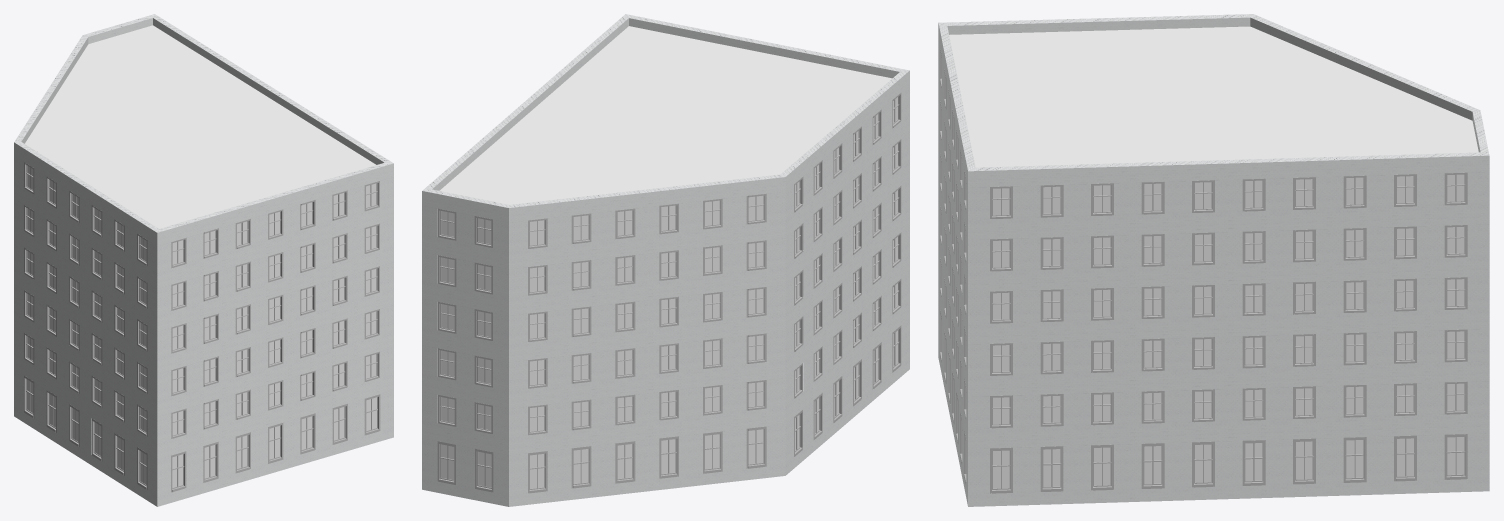
Rendered from clohbjqei02lx4p0208hi1o79_0.glb.
The picture shows the model from 3 angles, left to right: view 1: azimuth 30°, elevation 25°; view 2: azimuth 150°, elevation 25°; view 3: azimuth 270°, elevation 25°; orthographic projection. The views are drawn at different scales.
Parts seen in each view (by area): view 1: mesh_Brick, mesh_CityEnginePBRShader, mesh_Rim, mesh_Glass; view 2: mesh_Brick, mesh_CityEnginePBRShader, mesh_Rim, mesh_Glass; view 3: mesh_Brick, mesh_CityEnginePBRShader, mesh_Rim, mesh_Glass.
Part boxes in pixels (x1,y1,x2,y2): mesh_Brick: [14, 14, 393, 506]; mesh_CityEnginePBRShader: [25, 25, 375, 228]; mesh_Rim: [24, 162, 380, 492]; mesh_Glass: [27, 166, 376, 487]; mesh_Brick: [422, 14, 909, 506]; mesh_CityEnginePBRShader: [439, 26, 891, 204]; mesh_Rim: [437, 93, 901, 493]; mesh_Glass: [437, 97, 897, 488]; mesh_Brick: [938, 14, 1489, 506]; mesh_CityEnginePBRShader: [949, 26, 1478, 167]; mesh_Rim: [940, 49, 1467, 493]; mesh_Glass: [993, 174, 1464, 488].
Size of the model in its own units: 22.66 by 22.55 by 33.54.
Materials: 4 (1 with a texture image).
